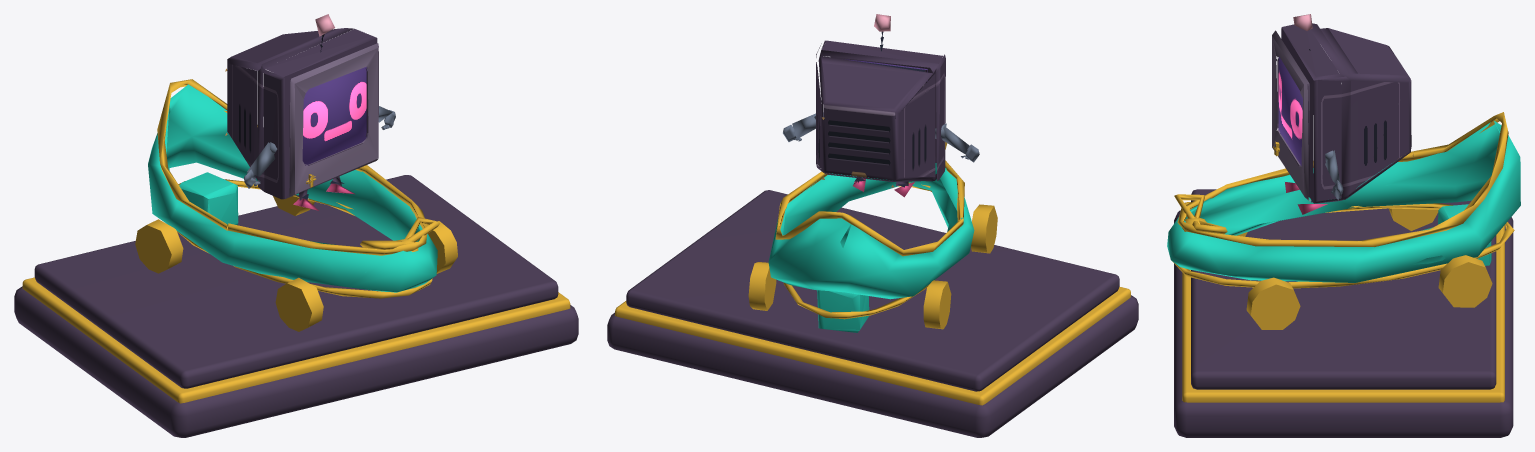
Rendered from kart.body.glass-slipper.lod1.glb.
The picture shows the model from 3 angles, left to right: view 1: azimuth 30°, elevation 25°; view 2: azimuth 150°, elevation 25°; view 3: azimuth 270°, elevation 25°; orthographic projection. The views are drawn at different scales.
Parts seen in each view (by area): view 1: stand_display_top, emi_teacup_mesh, stand_display_base, slipper_shell, stand_brass_band, rolled_crystal_rim, slipper_heel, wheel.003, wheel.002, shoe_welt, wheel.001; view 2: stand_display_top, emi_teacup_mesh, stand_display_base, slipper_shell, stand_brass_band, rolled_crystal_rim, slipper_heel, wheel.002, wheel.003, wheel, shoe_welt; view 3: stand_display_top, slipper_shell, emi_teacup_mesh, stand_display_base, stand_brass_band, rolled_crystal_rim, shoe_welt, wheel, wheel.001, wheel.002, slipper_heel, slipper_bow.001.
Part boxes in pixels (left/top/right/bottom): stand_display_top: left=34, top=175, right=558, bottom=388; emi_teacup_mesh: left=225, top=14, right=395, bottom=210; stand_display_base: left=14, top=286, right=578, bottom=437; slipper_shell: left=148, top=84, right=437, bottom=292; stand_brass_band: left=22, top=277, right=570, bottom=403; rolled_crystal_rim: left=157, top=79, right=427, bottom=255; slipper_heel: left=179, top=172, right=238, bottom=225; wheel.003: left=275, top=277, right=323, bottom=331; wheel.002: left=135, top=219, right=183, bottom=273; shoe_welt: left=177, top=179, right=432, bottom=298; wheel.001: left=427, top=221, right=457, bottom=273; stand_display_top: left=626, top=190, right=1119, bottom=391; emi_teacup_mesh: left=783, top=14, right=979, bottom=197; stand_display_base: left=607, top=295, right=1138, bottom=437; slipper_shell: left=768, top=163, right=974, bottom=299; stand_brass_band: left=615, top=286, right=1130, bottom=405; rolled_crystal_rim: left=775, top=160, right=964, bottom=256; slipper_heel: left=817, top=290, right=869, bottom=332; wheel.002: left=923, top=280, right=951, bottom=329; wheel.003: left=971, top=204, right=997, bottom=253; wheel: left=748, top=262, right=776, bottom=310; shoe_welt: left=783, top=182, right=931, bottom=319; stand_display_top: left=1191, top=189, right=1496, bottom=389; slipper_shell: left=1167, top=121, right=1520, bottom=282; emi_teacup_mesh: left=1272, top=14, right=1413, bottom=214; stand_display_base: left=1174, top=210, right=1513, bottom=437; stand_brass_band: left=1182, top=202, right=1504, bottom=402; rolled_crystal_rim: left=1177, top=112, right=1508, bottom=246; shoe_welt: left=1172, top=203, right=1514, bottom=288; wheel: left=1438, top=255, right=1492, bottom=307; wheel.001: left=1246, top=277, right=1300, bottom=329; wheel.002: left=1388, top=208, right=1438, bottom=230; slipper_heel: left=1438, top=204, right=1491, bottom=265; slipper_bow.001: left=1174, top=194, right=1204, bottom=218.
Size of the model in its own units: 0.64 by 0.496 by 0.4764.
4 materials, 2 textured.
